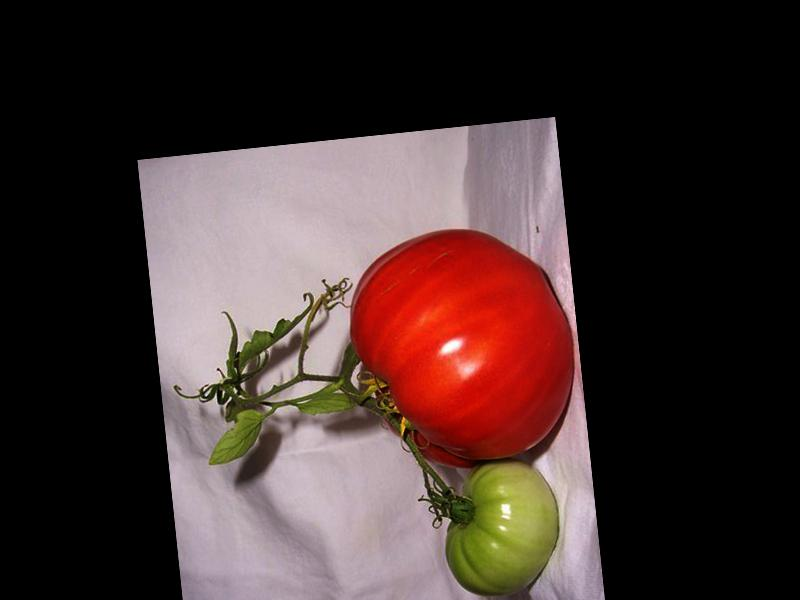Tomato: (340, 218, 582, 479)
